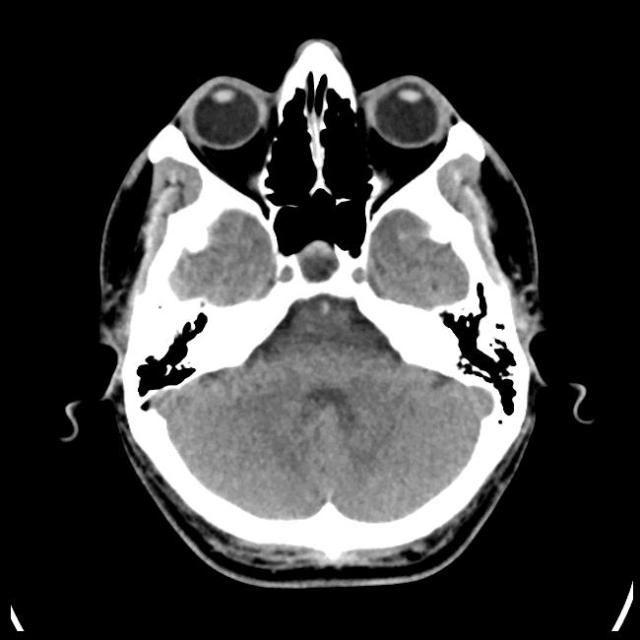lesion: (91, 37, 550, 588)
